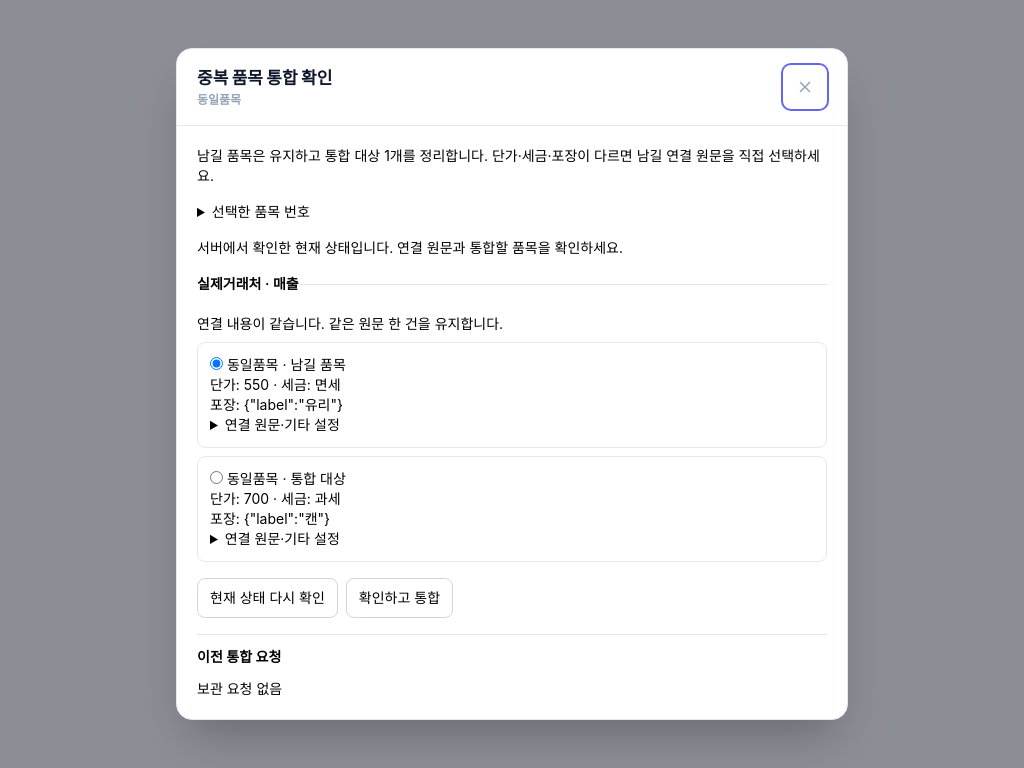
Test: 동치연결은추가충돌선택없이서버applyACK후닫고조회실패를미완료로바꾸지않는다
Expected: the text "연결 내용이 같습니다. 같은 원문 한 건을 유지합니다." is shown, [197,315,503,332]
Click the button "확인하고 통합". click: (400, 598)
box: [346,578,453,618]
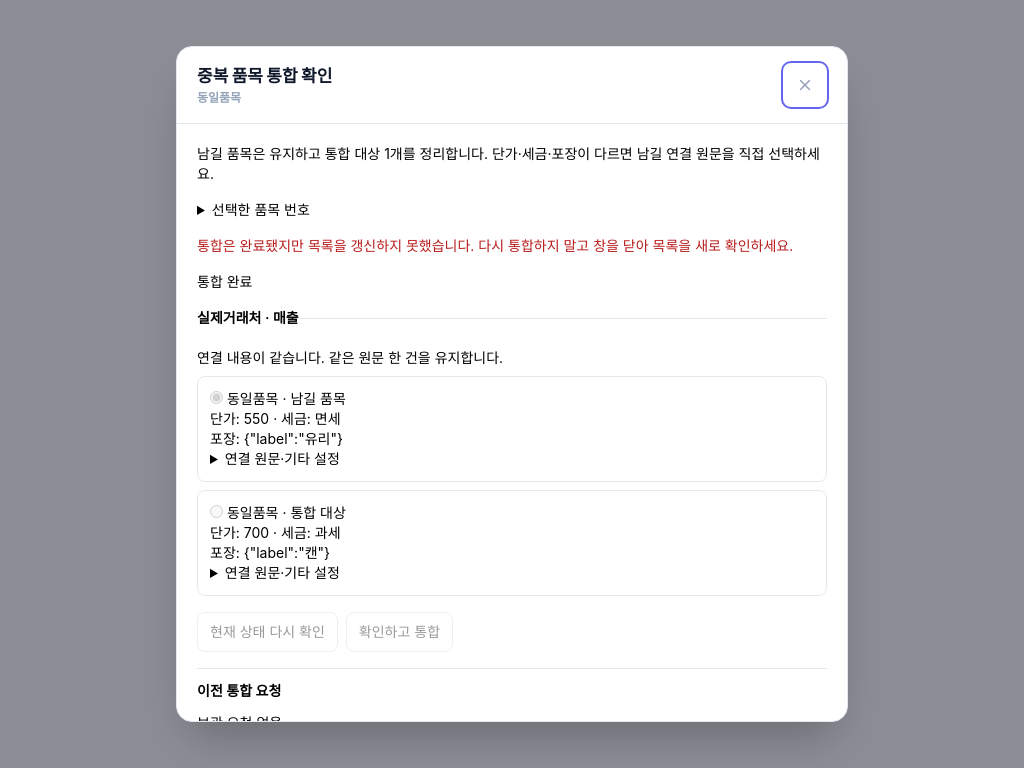
Now the message "통합은 완료됐지만 목록을 갱신하지 못했습니다. 다시 통합하지 말고 창을 닫아 목록을 새로 확인하세요." is shown, box [197,236,827,256]
Now the button "확인하고 통합" is disabled, box [346,612,453,652]
